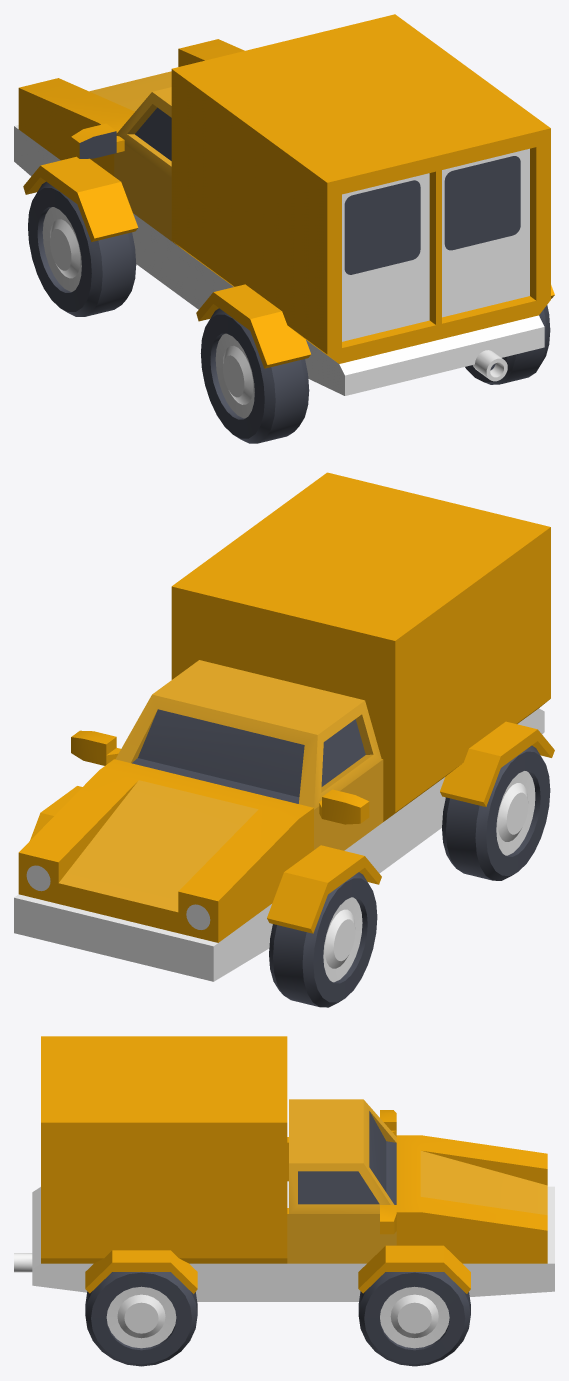
The model's file is Traffic Van Yellow.fbx.
3 views of the same model, one above another, from view 1: azimuth 30°, elevation 25°; view 2: azimuth 150°, elevation 25°; view 3: azimuth 270°, elevation 25° (orthographic). The views are drawn at different scales.
Parts seen in each view (by area): view 1: trunk_truck_177, windshield_truck_178, wheel_small_182, wheel_small_180, hood_square_147, detail_fenderSquare_179, detail_fenderSquare_181, wheel_small_164, detail_mirror_155, detail_exhaust_168; view 2: trunk_truck_177, hood_square_147, windshield_truck_178, wheel_small_180, wheel_small_182, detail_fenderSquare_179, detail_fenderSquare_181, detail_mirror_155, detail_mirror_156; view 3: trunk_truck_177, hood_square_147, windshield_truck_178, wheel_small_164, wheel_small_166, detail_fenderSquare_165, detail_fenderSquare_163, detail_mirror_156.
Part boxes in pixels (<box>): trunk_truck_177: <box>171,14,550,395</box>; windshield_truck_178: <box>114,87,229,309</box>; wheel_small_182: <box>200,308,309,443</box>; wheel_small_180: <box>28,181,136,316</box>; hood_square_147: <box>14,39,244,176</box>; detail_fenderSquare_179: <box>23,156,138,241</box>; detail_fenderSquare_181: <box>196,284,311,368</box>; wheel_small_164: <box>465,305,550,384</box>; detail_mirror_155: <box>71,123,124,158</box>; detail_exhaust_168: <box>472,350,507,381</box>; trunk_truck_177: <box>171,472,550,870</box>; hood_square_147: <box>14,759,313,981</box>; windshield_truck_178: <box>115,660,429,873</box>; wheel_small_180: <box>269,872,377,1007</box>; wheel_small_182: <box>442,745,550,880</box>; detail_fenderSquare_179: <box>267,845,381,933</box>; detail_fenderSquare_181: <box>440,721,554,806</box>; detail_mirror_155: <box>319,789,369,824</box>; detail_mirror_156: <box>71,730,120,765</box>; trunk_truck_177: <box>32,1036,287,1301</box>; hood_square_147: <box>396,1135,554,1296</box>; windshield_truck_178: <box>214,1099,396,1301</box>; wheel_small_164: <box>85,1272,197,1366</box>; wheel_small_166: <box>358,1272,470,1366</box>; detail_fenderSquare_165: <box>358,1245,470,1293</box>; detail_fenderSquare_163: <box>85,1250,197,1293</box>; detail_mirror_156: <box>380,1205,396,1234</box>.
Bounding box in the file's own units: 14.5 × 14.22 × 29.7.
